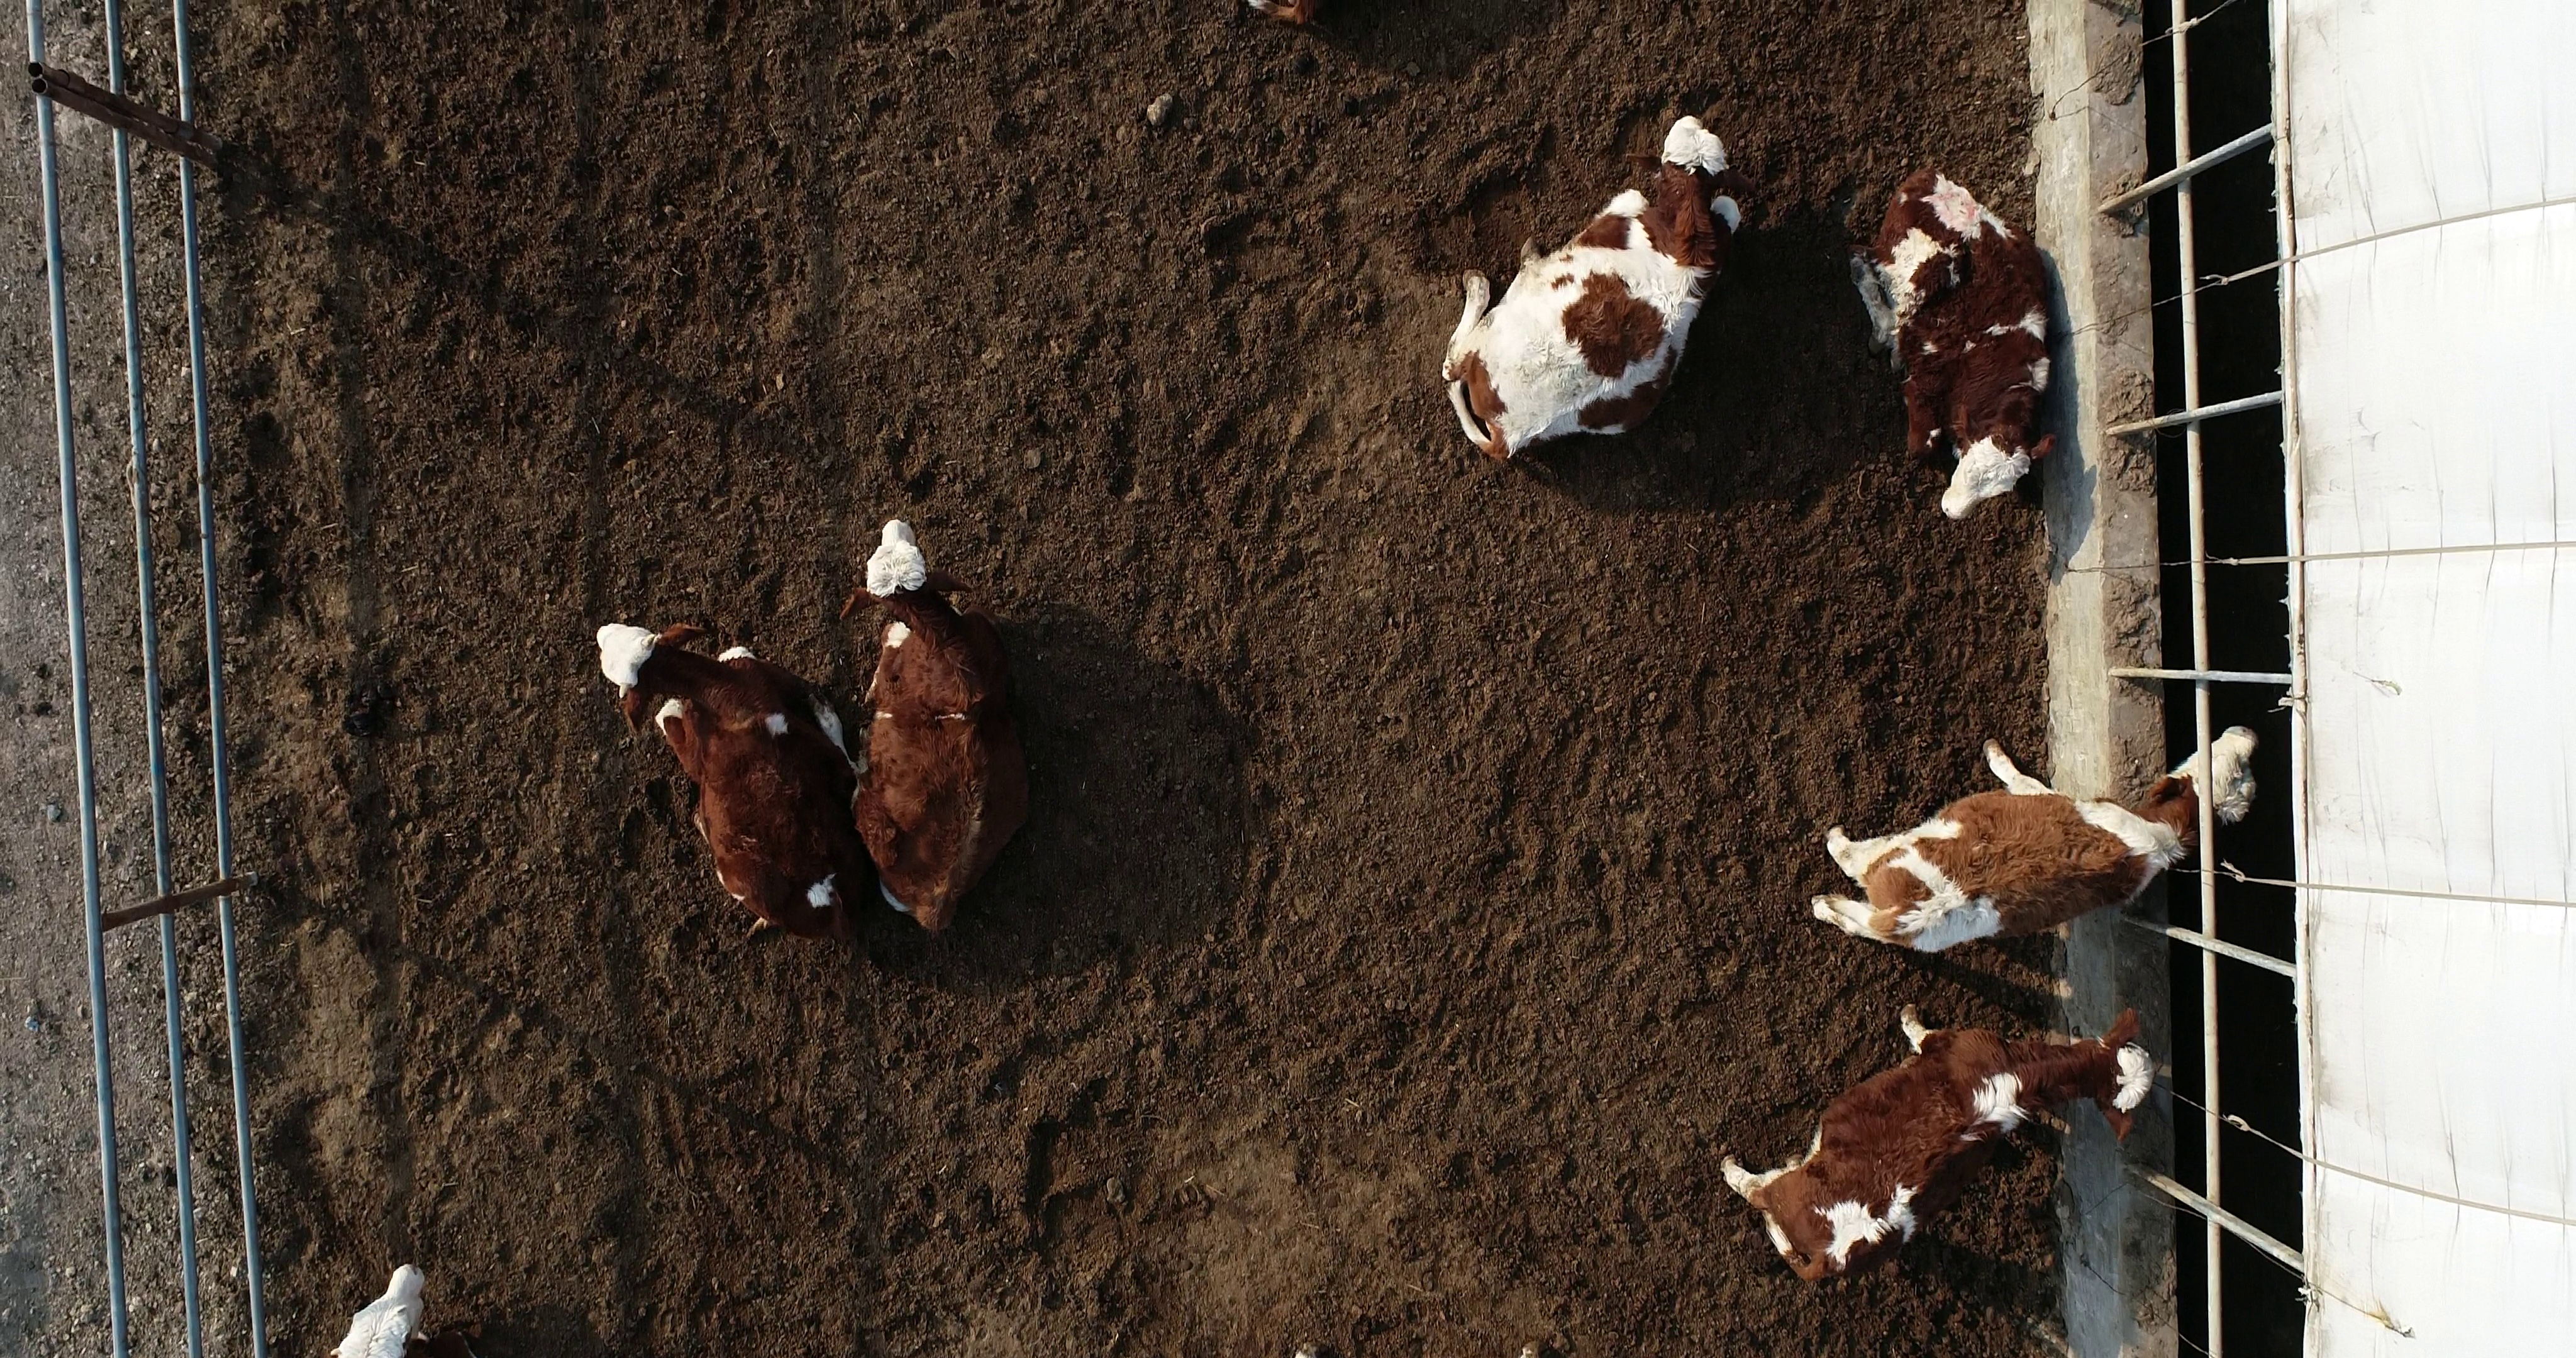cattle: (1709, 1000, 2159, 1288), (1804, 717, 2266, 959), (1438, 111, 1746, 465), (593, 612, 867, 942), (833, 516, 1039, 946), (1845, 160, 2061, 525)
